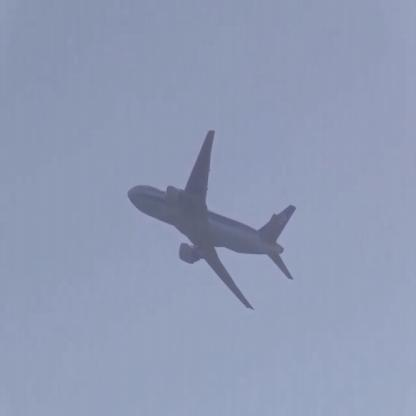CIV_Plane: (124, 128, 301, 308)
